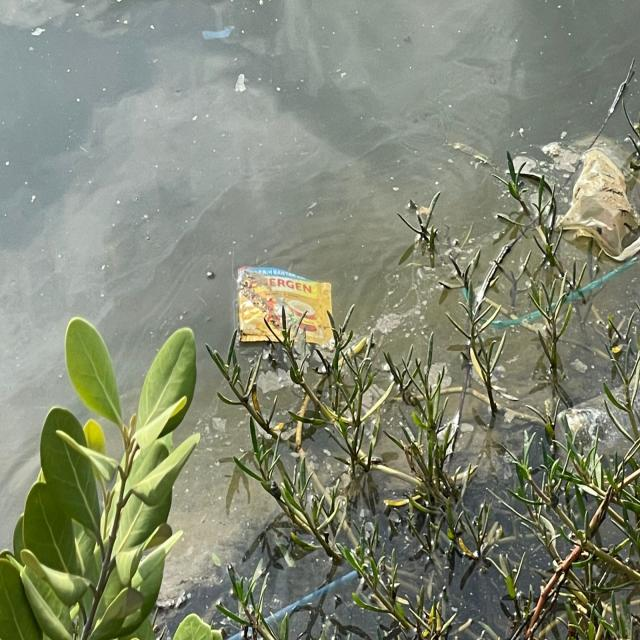Bungkus Minuman: (233, 260, 340, 355)
Kantong Plastik: (511, 138, 634, 264)
